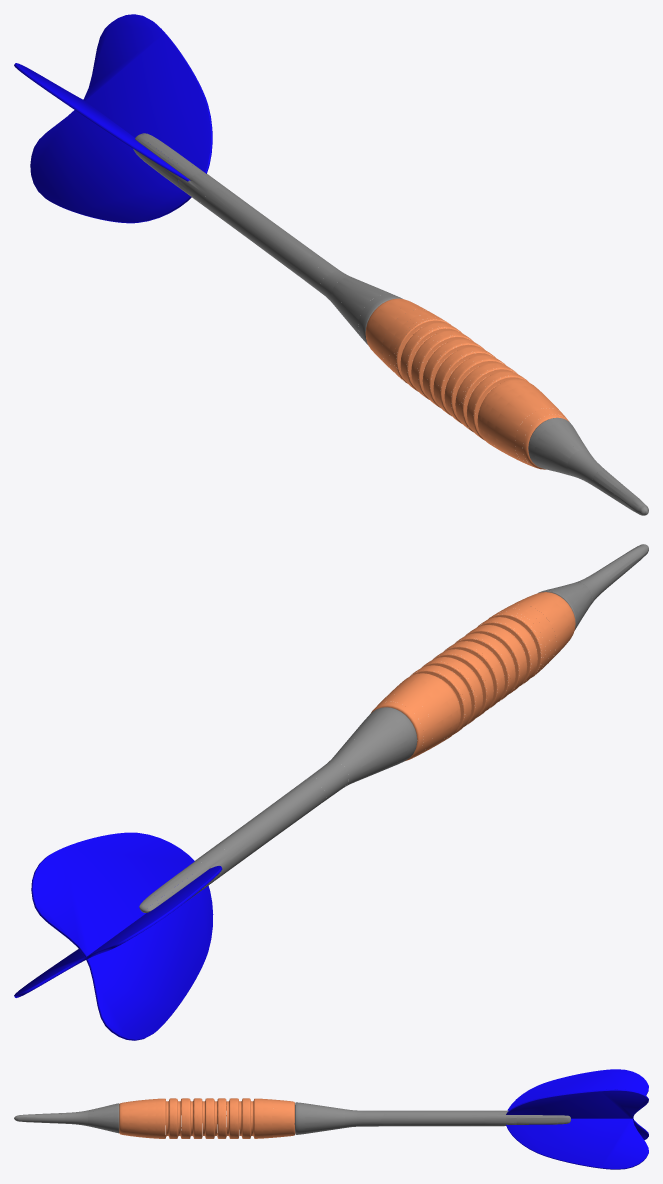
Rendered from dart.glb.
The picture shows the model from 3 angles, top to bottom: view 1: azimuth 30°, elevation 25°; view 2: azimuth 150°, elevation 25°; view 3: azimuth 270°, elevation 25°; orthographic projection. The views are drawn at different scales.
Visible parts, largest first — view 1: Flight2, Barrel, Shaft, Tip, Flight1; view 2: Flight2, Barrel, Shaft, Flight1, Tip; view 3: Flight1, Barrel, Shaft, Flight2, Tip.
Boxes of the visible parts, bbox=[...] form: Flight2: bbox=[30, 14, 212, 223]; Barrel: bbox=[365, 298, 569, 469]; Shaft: bbox=[133, 133, 406, 345]; Tip: bbox=[528, 417, 648, 515]; Flight1: bbox=[14, 63, 190, 181]; Flight2: bbox=[31, 832, 213, 1040]; Barrel: bbox=[371, 592, 575, 760]; Shaft: bbox=[139, 707, 417, 912]; Flight1: bbox=[14, 866, 222, 997]; Tip: bbox=[538, 544, 648, 630]; Flight1: bbox=[506, 1069, 648, 1169]; Barrel: bbox=[119, 1098, 295, 1138]; Shaft: bbox=[294, 1102, 570, 1134]; Flight2: bbox=[506, 1089, 648, 1140]; Tip: bbox=[14, 1103, 119, 1133].
Size of the model in its own units: 0.4955 by 0.4955 by 3.38.
